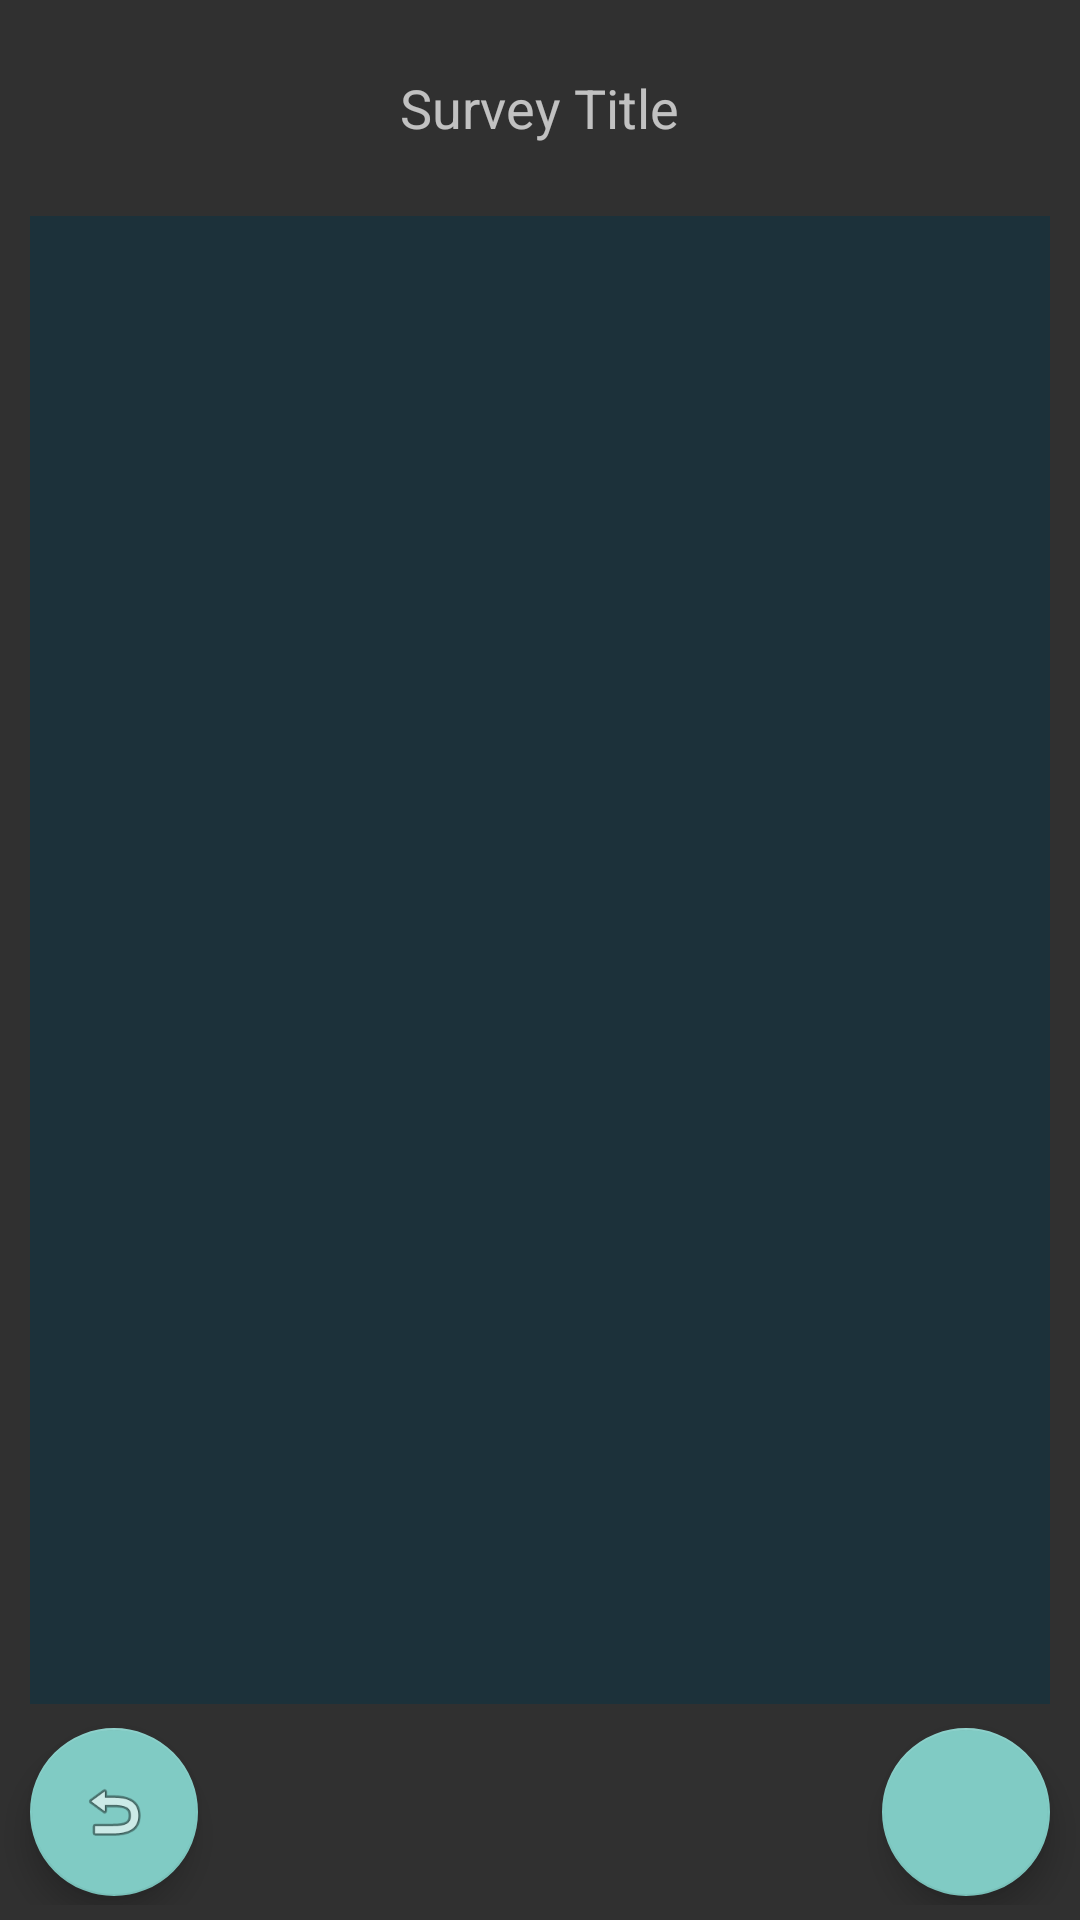

Named icons in this screenshot (1080x1920) and their bounding boxes, [x1,y1,x2,y2]:
revert: [30,1728,198,1896]
